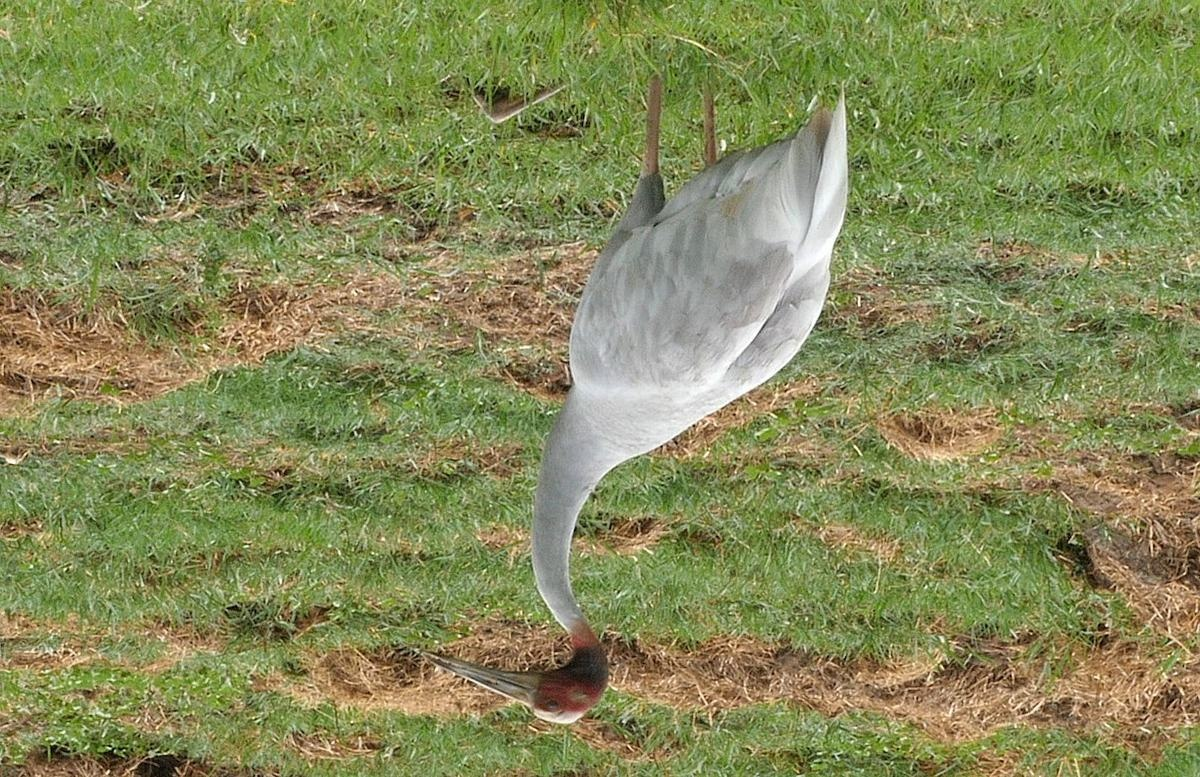crane: (416, 44, 880, 741)
